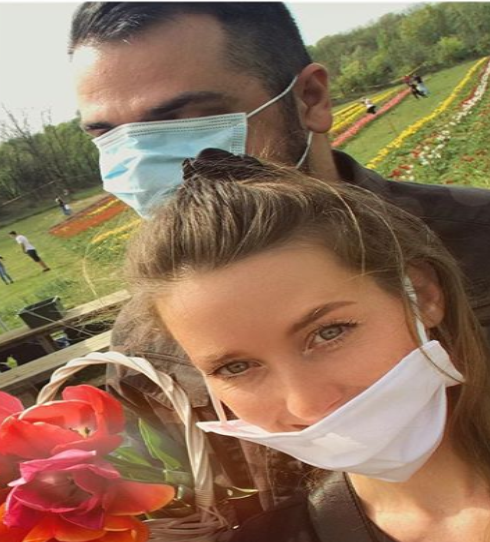mask_weared_incorrect: (151, 190, 457, 482), (58, 2, 332, 224)
